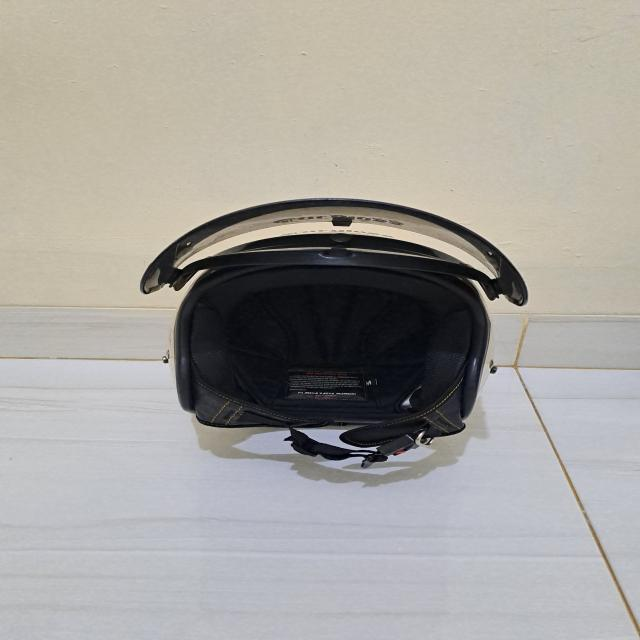Helm: (132, 191, 538, 466)
